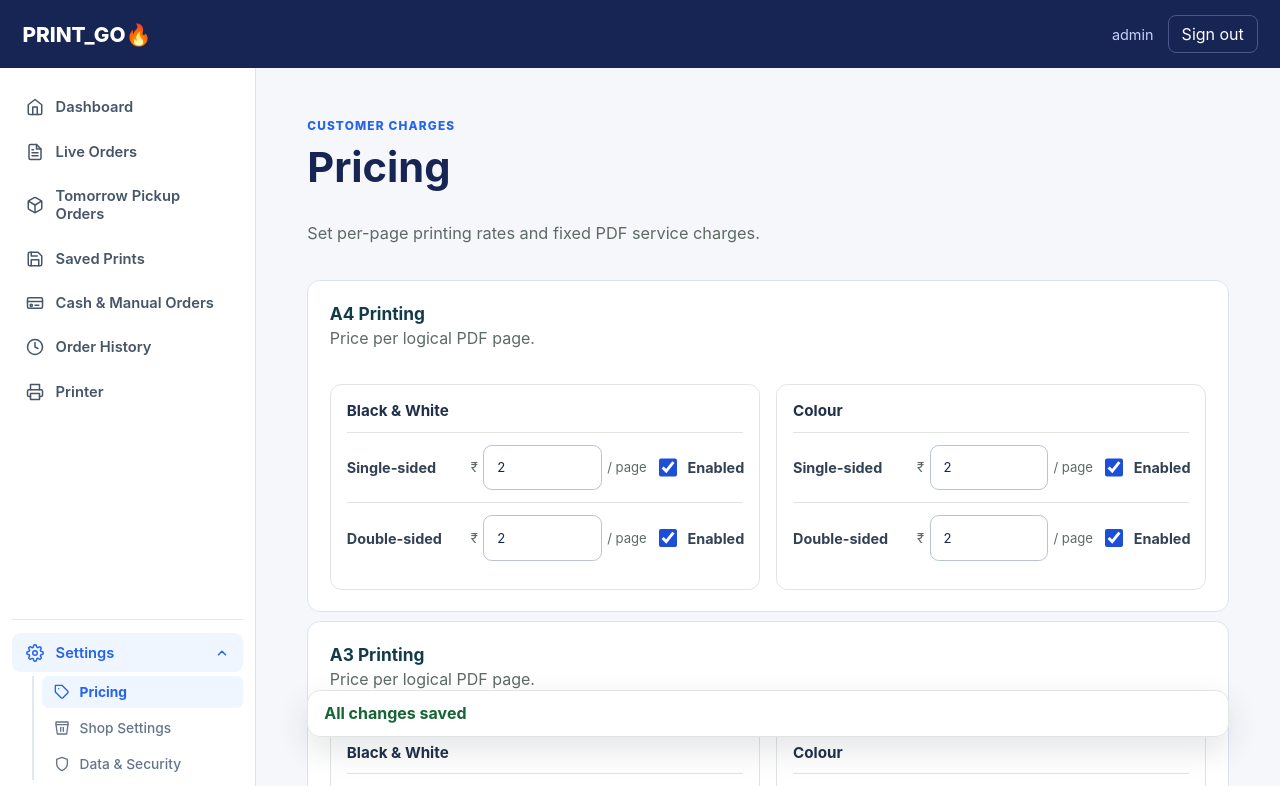
Test case: Admin application › loads, edits, and saves rupee-denominated pricing
This screenshot has width=1280, height=786.
Replace the text in the field named "A4 Black & White Single-sided price" with "3.25": (543, 468) [484,445,602,490]
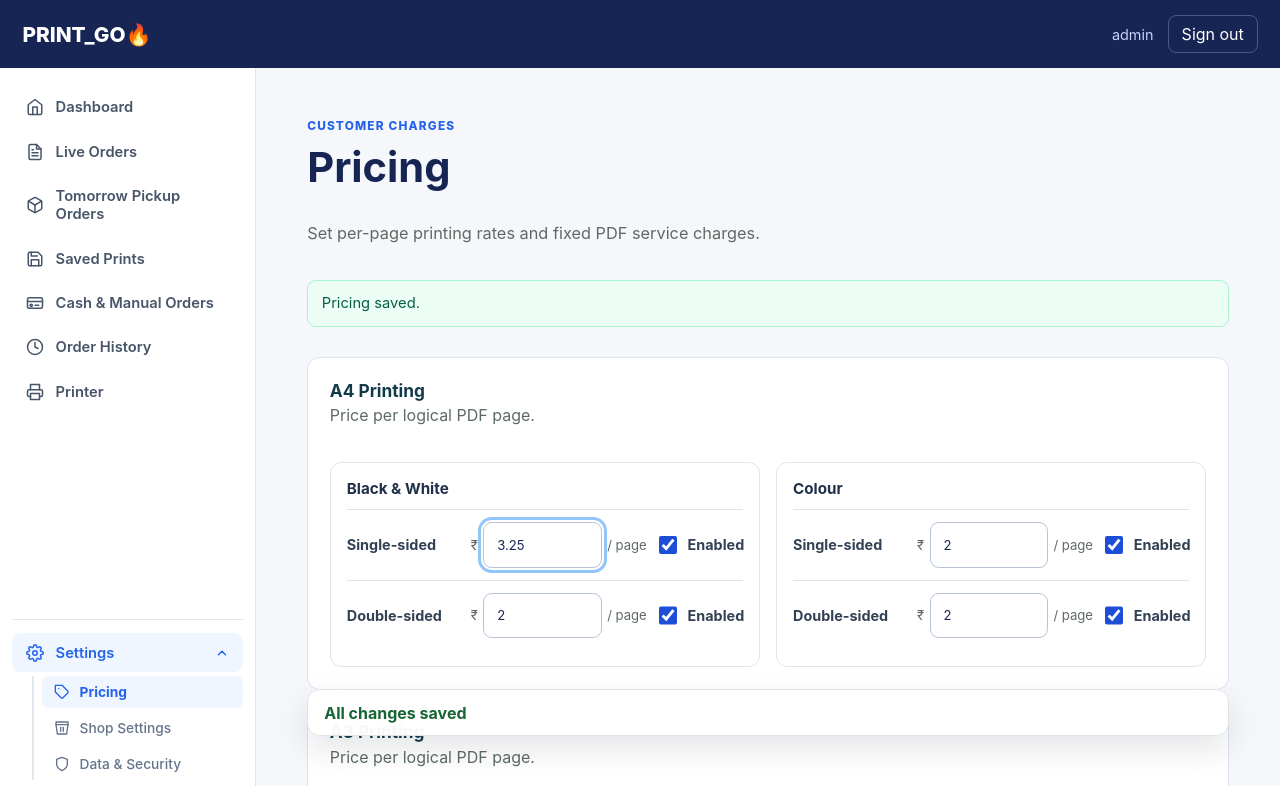
Check: the text "Pricing saved." is shown, box [307,280,1229,327]
